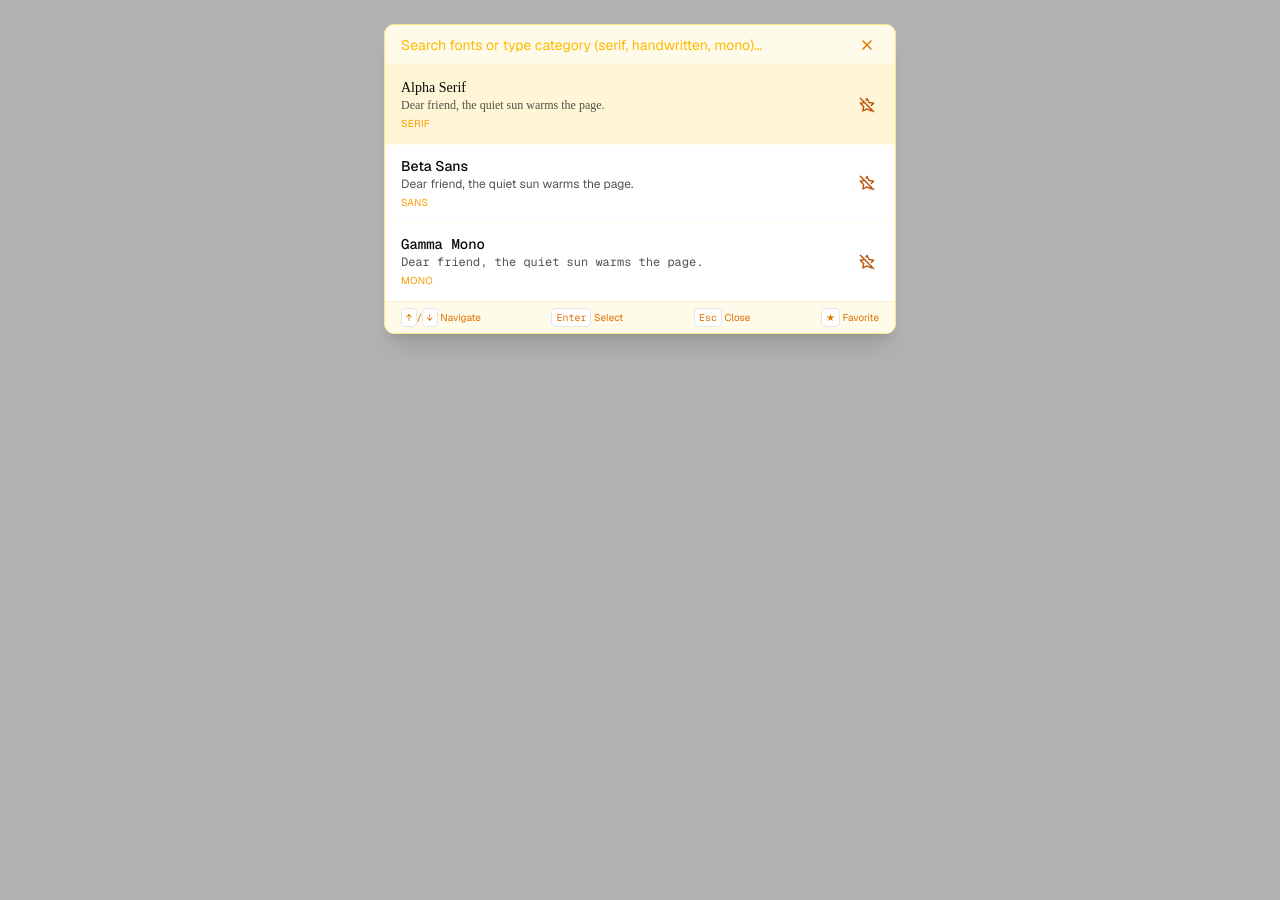
Test: search filters list and shows No matches
Type "nope" into the field with placeholder "Search fonts or type category (serif, handwritten, mono)...".
click(624, 45); type("nope")  # box [401, 35, 847, 55]
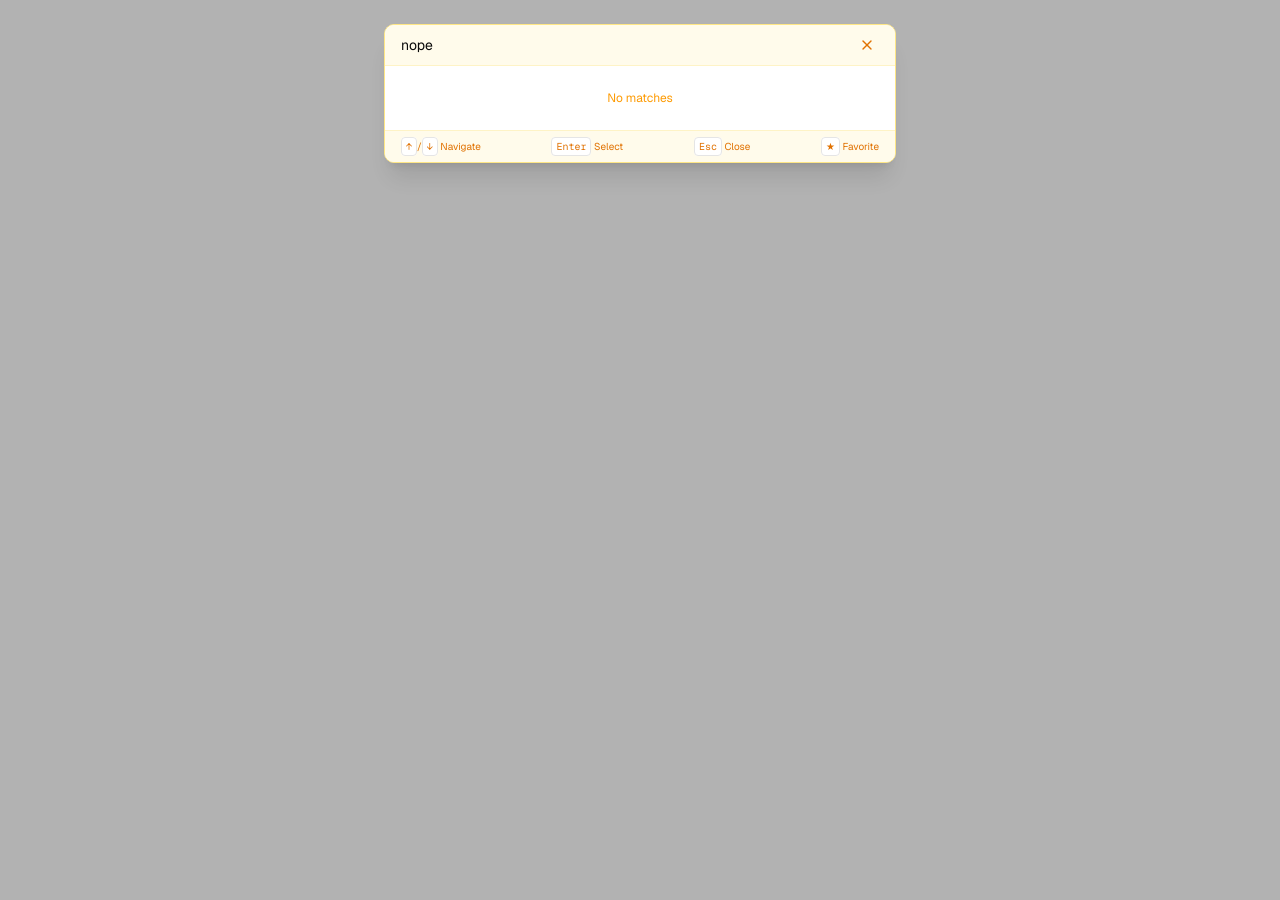
Now the list item "No matches" is shown, box [607, 90, 673, 106]
